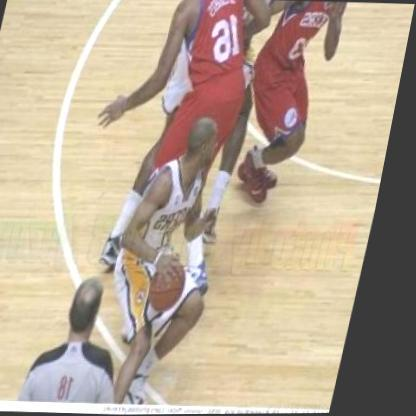basketball: (157, 263, 199, 311)
